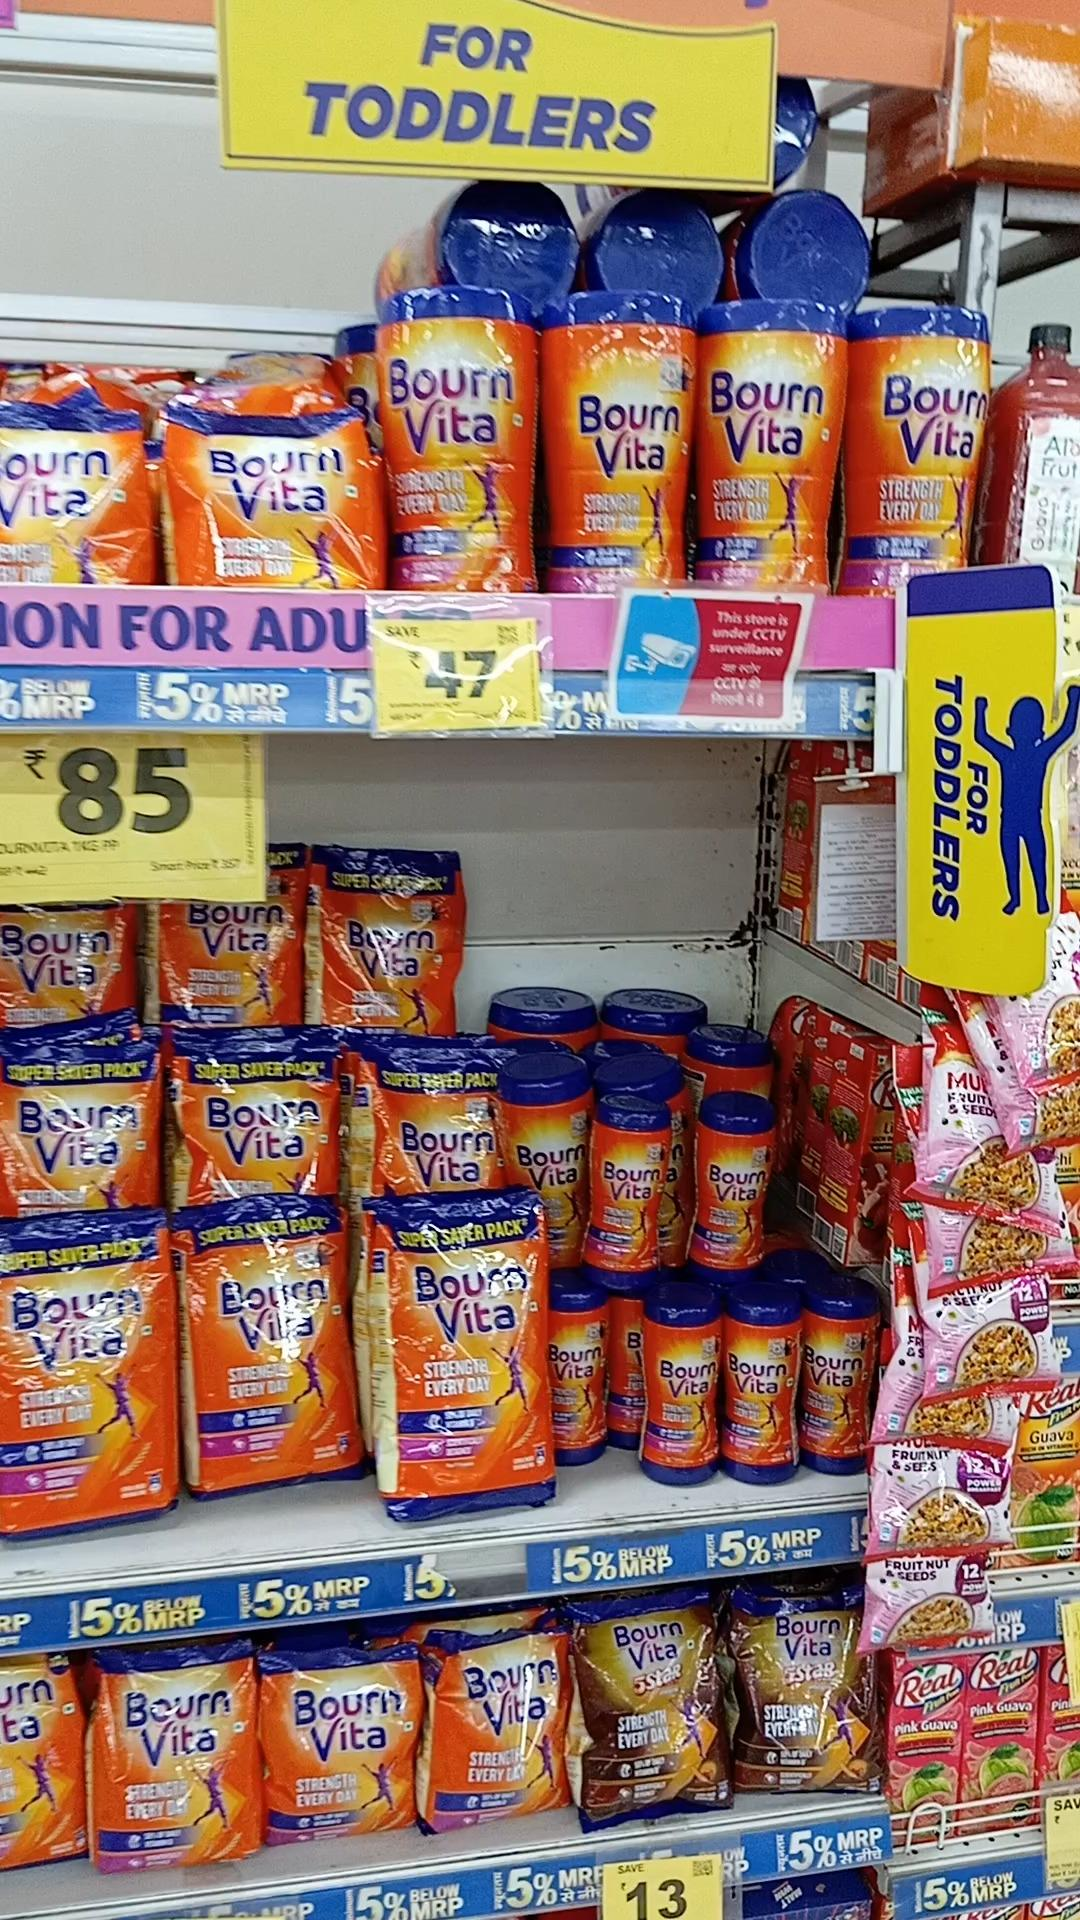BOURN_VITA_1_KG_JAR: (381, 286, 527, 591), (551, 291, 690, 595), (700, 295, 836, 589), (848, 306, 989, 578)
BOURN_VITA_1_KG_POUCH: (368, 1195, 547, 1513), (0, 1225, 162, 1538), (196, 1209, 352, 1491), (0, 1040, 162, 1213), (316, 845, 464, 1030), (182, 1047, 332, 1196), (359, 1047, 505, 1192), (166, 898, 303, 1035)
BOURN_VITA_500_G_JAR: (578, 1110, 667, 1286), (687, 1104, 773, 1278), (804, 1292, 884, 1472), (642, 1302, 719, 1484), (727, 1300, 802, 1481), (550, 1291, 612, 1456)
BOURN_VITA_500_G_POUCH: (91, 1643, 266, 1874), (170, 400, 371, 588), (430, 1627, 574, 1840), (281, 1656, 421, 1845), (0, 407, 144, 585)
BOURN_VITA_FIVE_STAR_MAGIC_500_G_POUCH: (587, 1604, 736, 1822), (741, 1586, 881, 1793)
